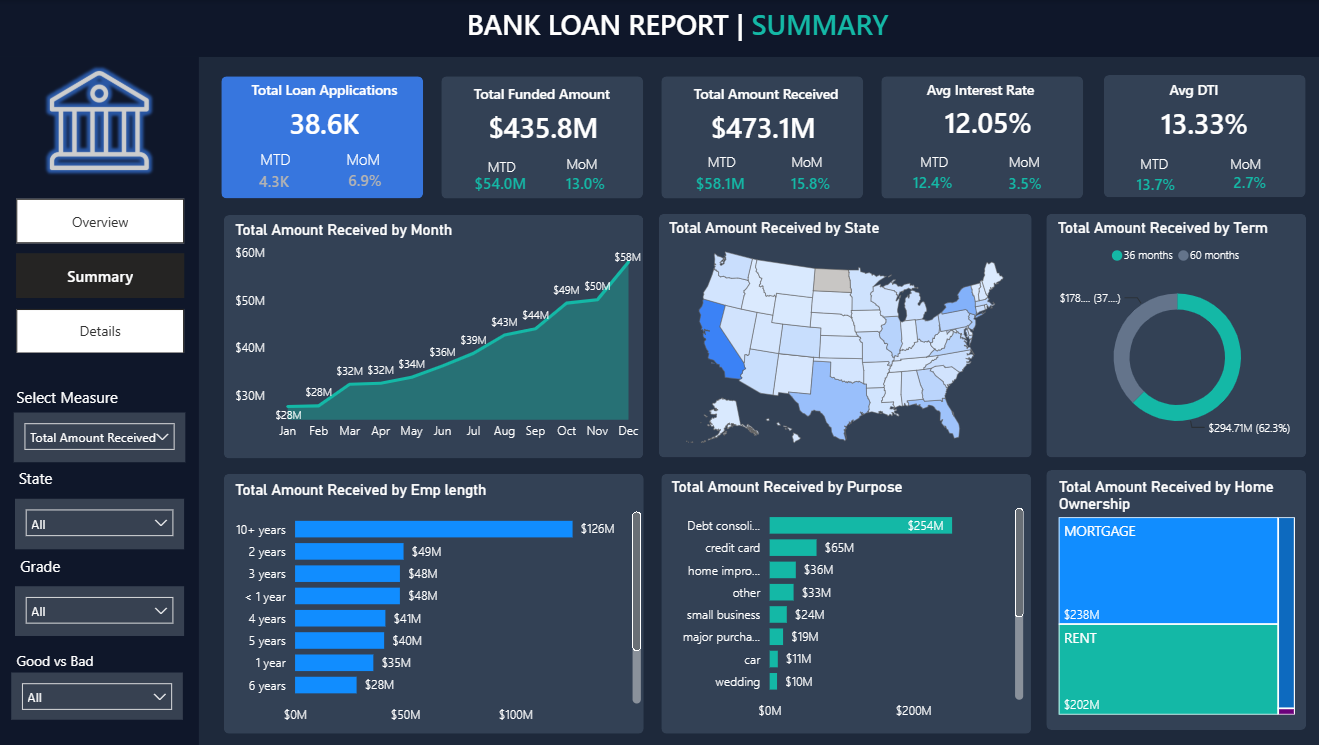

This screenshot's page, from the dashboard's own definition file:
{"tool":"powerbi","page":{"name":"Summary","canvas":[1280,720],"ordinal":1},"visuals":[{"type":"shape","box":[216,207.5,405,235],"z":0},{"type":"shape","box":[214.1,74.1,194.9,118],"z":1000},{"type":"shape","box":[0,54.9,192.1,665.5],"z":2000},{"type":"shape","box":[0,0,1280.3,55],"z":3000},{"type":"textbox","box":[418.5,0,470.7,56.3],"z":4000},{"type":"cardVisual","title":"MOM","fields":{"Data":["bank_loan_data.MoM Funded Amount"]},"box":[513.6,149,102.9,52.1],"z":4000,"group":"g2"},{"type":"cardVisual","title":"MOM","fields":{"Data":["bank_loan_data.MoM Amount Recieved"]},"box":[725.4,149,112.5,52.1],"z":4000,"group":"g3"},{"type":"cardVisual","title":"MOM","fields":{"Data":["bank_loan_data.MoM Avg DTI"]},"box":[1155.6,129.3,101.5,91.9],"z":5000,"group":"g5"},{"type":"textbox","box":[245.6,138.6,49.4,52.1],"z":5000},{"type":"cardVisual","title":"MOM","fields":{"Data":["bank_loan_data.MoM Loan Applications"]},"box":[296.3,148,111.1,50.8],"z":5000,"group":"g1"},{"type":"cardVisual","title":"MOM","fields":{"Data":["bank_loan_data.MoM Avg Int"]},"box":[934.7,150.4,111.1,50.8],"z":5000,"group":"g4"},{"type":"cardVisual","fields":{"Data":["bank_loan_data.Avg Int Rate"]},"box":[857.2,86.4,194.9,59],"z":6000,"group":"g4"},{"type":"cardVisual","fields":{"Data":["bank_loan_data.Total Loan Applications"]},"box":[215.4,87.8,194.9,59],"z":6000,"group":"g1"},{"type":"cardVisual","fields":{"Data":["bank_loan_data.Avg DTI"]},"box":[1064.8,87.8,194.9,59],"z":6000,"group":"g5"},{"type":"cardVisual","fields":{"Data":["bank_loan_data.Total Funded Amount"]},"box":[426.8,90.6,194.9,59],"z":6000,"group":"g2"},{"type":"cardVisual","fields":{"Data":["bank_loan_data.Total Amount Recieved"]},"box":[639.1,90.6,194.9,59],"z":6000,"group":"g3"},{"type":"textbox","box":[329.3,138.6,56.3,38.4],"z":6000},{"type":"group","id":"g1","title":"Group 1","box":[215.4,72.7,194.9,127.6],"z":7000},{"type":"cardVisual","title":"MTD","fields":{"Data":["bank_loan_data.MTD Loan Applications"]},"box":[215.5,145.9,97.4,54.9],"z":7000,"group":"g1"},{"type":"cardVisual","title":"MTD","fields":{"Data":["bank_loan_data.Mtd Avg Int"]},"box":[836.5,147.7,129,52.1],"z":7000,"group":"g4"},{"type":"cardVisual","title":"MTD","fields":{"Data":["bank_loan_data.Mtd Avg DTI"]},"box":[1066.4,148.5,98.8,57.6],"z":7000,"group":"g5"},{"type":"cardVisual","title":"MTD","fields":{"Data":["bank_loan_data.MTD todal funded amount"]},"box":[423,149,119.4,52.1],"z":7000,"group":"g2"},{"type":"cardVisual","title":"MTD","fields":{"Data":["bank_loan_data.MTD Amount Recieved"]},"box":[635.3,149,119.4,52.1],"z":7000,"group":"g3"},{"type":"textbox","box":[871.5,72.2,170.2,35.7],"z":8000,"group":"g4"},{"type":"textbox","box":[237.4,72.7,170.2,35.7],"z":8000,"group":"g1"},{"type":"textbox","box":[1086.8,72.7,170.2,35.7],"z":8000,"group":"g5"},{"type":"shape","box":[426.1,74.1,194.9,118],"z":8000},{"type":"textbox","box":[448.7,75.5,170.2,35.7],"z":8000,"group":"g2"},{"type":"textbox","box":[661,75.5,170.2,35.7],"z":8000,"group":"g3"},{"type":"group","id":"g2","title":"Group 1","box":[423,75.5,198.6,125.6],"z":9000},{"type":"shape","box":[638.1,74.1,194.9,118],"z":10000},{"type":"shape","box":[850.1,74.1,194.9,118],"z":11000},{"type":"shape","box":[1064.8,72.7,194.9,118],"z":12000},{"type":"textbox","box":[408.9,244.3,194.9,9.6],"z":13000},{"type":"textbox","box":[1182.9,144.1,54.9,34.3],"z":14000},{"type":"textbox","box":[542,144.1,52.1,41.2],"z":15000},{"type":"textbox","box":[465.2,146.8,57.6,27.4],"z":16000},{"type":"group","id":"g3","title":"Group 1","box":[635.3,75.5,202.6,125.6],"z":17000},{"type":"textbox","box":[879.6,142.7,94.7,31.6],"z":18000},{"type":"textbox","box":[671,142.7,83.7,27.4],"z":19000},{"type":"textbox","box":[754.7,142.7,83.7,31.6],"z":20000},{"type":"group","id":"g4","title":"Group 1","box":[836.5,72.2,215.6,129],"z":21000},{"type":"textbox","box":[968.8,142.7,75.5,38.4],"z":22000},{"type":"group","id":"g5","title":"Group 1","box":[1064.8,72.7,194.9,148.6],"z":23000},{"type":"textbox","box":[1095,144.1,50.8,41.2],"z":24000},{"type":"areaChart","fields":{"Y":["bank_loan_data.Total Amount Received"],"Category":["Date Table.Month"]},"box":[222,213.5,401.7,220.8],"z":25000},{"type":"slicer","fields":{"Values":["bank_loan_data.address_state"]},"box":[14.5,481.3,162.9,48.9],"z":25000,"group":"g7"},{"type":"shape","box":[635.8,206.3,360,235.3],"z":26000},{"type":"slicer","fields":{"Values":["bank_loan_data.grade"]},"box":[14.5,565.8,162.9,47.8],"z":26000,"group":"g7"},{"type":"shape","box":[1009.8,206.3,250.9,235.3],"z":27000},{"type":"slicer","fields":{"Values":["bank_loan_data.Good vs Bad Loan"]},"box":[10.9,649.3,165.3,45.6],"z":27000,"group":"g7"},{"type":"shapeMap","fields":{"Value":["bank_loan_data.Total Amount Received"],"Category":["bank_loan_data.address_state"]},"box":[640.6,211.1,349.9,231.6],"z":28000},{"type":"textbox","box":[13.3,445.7,71.2,35.6],"z":28000,"group":"g7"},{"type":"donutChart","fields":{"Y":["bank_loan_data.Total Amount Received"],"Category":["bank_loan_data.term"]},"box":[1015.8,211.1,241.3,223.2],"z":29000},{"type":"textbox","box":[10.9,623.7,127.9,33.4],"z":29000,"group":"g7"},{"type":"shape","box":[216,457.2,405.4,250.9],"z":30000},{"type":"textbox","box":[14.5,530.8,71.2,38.6],"z":30000,"group":"g6"},{"type":"slicer","fields":{"Values":["Select Measure.Select Measure"]},"box":[13.3,397.9,165.3,47.8],"z":31000,"group":"g7"},{"type":"barChart","fields":{"Y":["bank_loan_data.Total Amount Received"],"Category":["bank_loan_data.emp_length"]},"box":[222,464.5,401.7,243.7],"z":31000},{"type":"textbox","box":[10.9,367.9,127.9,35.6],"z":32000,"group":"g7"},{"type":"shape","box":[638.2,457.2,357.1,250.9],"z":32000},{"type":"barChart","fields":{"Y":["bank_loan_data.Total Amount Received"],"Category":["bank_loan_data.purpose"]},"box":[643,460.9,349.9,243.7],"z":33000},{"type":"shape","box":[1009.8,453.6,250.9,250.9],"z":34000},{"type":"treemap","fields":{"Values":["bank_loan_data.Total Amount Received"],"Group":["bank_loan_data.home_ownership"]},"box":[1017,460.9,237.7,234],"z":35000},{"type":"group","id":"g6","title":"Group 3","box":[10.9,62.7,167.7,632.2],"z":36000},{"type":"pageNavigator","box":[15.7,191.8,162.9,150.8],"z":37000},{"type":"image","box":[35,62.7,121.9,107.4],"z":44000,"group":"g6"},{"type":"group","id":"g7","title":"Group 2","box":[10.9,367.9,167.7,326.9],"z":45001,"group":"g6"}]}

Visuals, with their boxes in screenshot pixels (x1, y1, x2, y2), scaled from the page's 1280x720 canvas onto the 1319x745 screenshot:
shape: crop(223, 215, 640, 458)
shape: crop(221, 77, 421, 199)
shape: crop(0, 57, 198, 744)
shape: crop(0, 0, 1318, 57)
textbox: crop(431, 0, 916, 58)
"MOM" cardVisual: crop(529, 154, 635, 208)
"MOM" cardVisual: crop(748, 154, 863, 208)
"MOM" cardVisual: crop(1191, 134, 1295, 229)
textbox: crop(253, 143, 304, 197)
"MOM" cardVisual: crop(305, 153, 420, 206)
"MOM" cardVisual: crop(963, 156, 1078, 208)
cardVisual - bank_loan_data.Avg Int Rate: crop(883, 89, 1084, 150)
cardVisual - bank_loan_data.Total Loan Applications: crop(222, 91, 423, 152)
cardVisual - bank_loan_data.Avg DTI: crop(1097, 91, 1298, 152)
cardVisual - bank_loan_data.Total Funded Amount: crop(440, 94, 641, 155)
cardVisual - bank_loan_data.Total Amount Recieved: crop(659, 94, 859, 155)
textbox: crop(339, 143, 397, 183)
"Group 1" group: crop(222, 75, 423, 207)
"MTD" cardVisual: crop(222, 151, 322, 208)
"MTD" cardVisual: crop(862, 153, 995, 207)
"MTD" cardVisual: crop(1099, 154, 1201, 213)
"MTD" cardVisual: crop(436, 154, 559, 208)
"MTD" cardVisual: crop(655, 154, 778, 208)
textbox: crop(898, 75, 1073, 112)
textbox: crop(245, 75, 420, 112)
textbox: crop(1120, 75, 1295, 112)
shape: crop(439, 77, 640, 199)
textbox: crop(462, 78, 638, 115)
textbox: crop(681, 78, 857, 115)
"Group 1" group: crop(436, 78, 641, 208)
shape: crop(658, 77, 858, 199)
shape: crop(876, 77, 1077, 199)
shape: crop(1097, 75, 1298, 197)
textbox: crop(421, 253, 622, 263)
textbox: crop(1219, 149, 1276, 185)
textbox: crop(559, 149, 612, 192)
textbox: crop(479, 152, 539, 180)
"Group 1" group: crop(655, 78, 863, 208)
textbox: crop(906, 148, 1004, 180)
textbox: crop(691, 148, 778, 176)
textbox: crop(778, 148, 864, 180)
"Group 1" group: crop(862, 75, 1084, 208)
textbox: crop(998, 148, 1076, 187)
"Group 1" group: crop(1097, 75, 1298, 229)
textbox: crop(1128, 149, 1181, 192)
areaChart - bank_loan_data.Total Amount Received x Date Table.Month: crop(229, 221, 643, 449)
slicer - bank_loan_data.address_state: crop(15, 498, 183, 549)
shape: crop(655, 213, 1026, 457)
slicer - bank_loan_data.grade: crop(15, 585, 183, 635)
shape: crop(1041, 213, 1299, 457)
slicer - bank_loan_data.Good vs Bad Loan: crop(11, 672, 182, 719)
shapeMap - bank_loan_data.Total Amount Received x bank_loan_data.address_state: crop(660, 218, 1021, 458)
textbox: crop(14, 461, 87, 498)
donutChart - bank_loan_data.Total Amount Received x bank_loan_data.term: crop(1047, 218, 1295, 449)
textbox: crop(11, 645, 143, 680)
shape: crop(223, 473, 640, 733)
textbox: crop(15, 549, 88, 589)
slicer - Select Measure.Select Measure: crop(14, 412, 184, 461)
barChart - bank_loan_data.Total Amount Received x bank_loan_data.emp_length: crop(229, 481, 643, 733)
textbox: crop(11, 381, 143, 418)
shape: crop(658, 473, 1026, 733)
barChart - bank_loan_data.Total Amount Received x bank_loan_data.purpose: crop(663, 477, 1023, 729)
shape: crop(1041, 469, 1299, 729)
treemap - bank_loan_data.Total Amount Received x bank_loan_data.home_ownership: crop(1048, 477, 1293, 719)
"Group 3" group: crop(11, 65, 184, 719)
pageNavigator: crop(16, 198, 184, 354)
image: crop(36, 65, 162, 176)
"Group 2" group: crop(11, 381, 184, 719)
